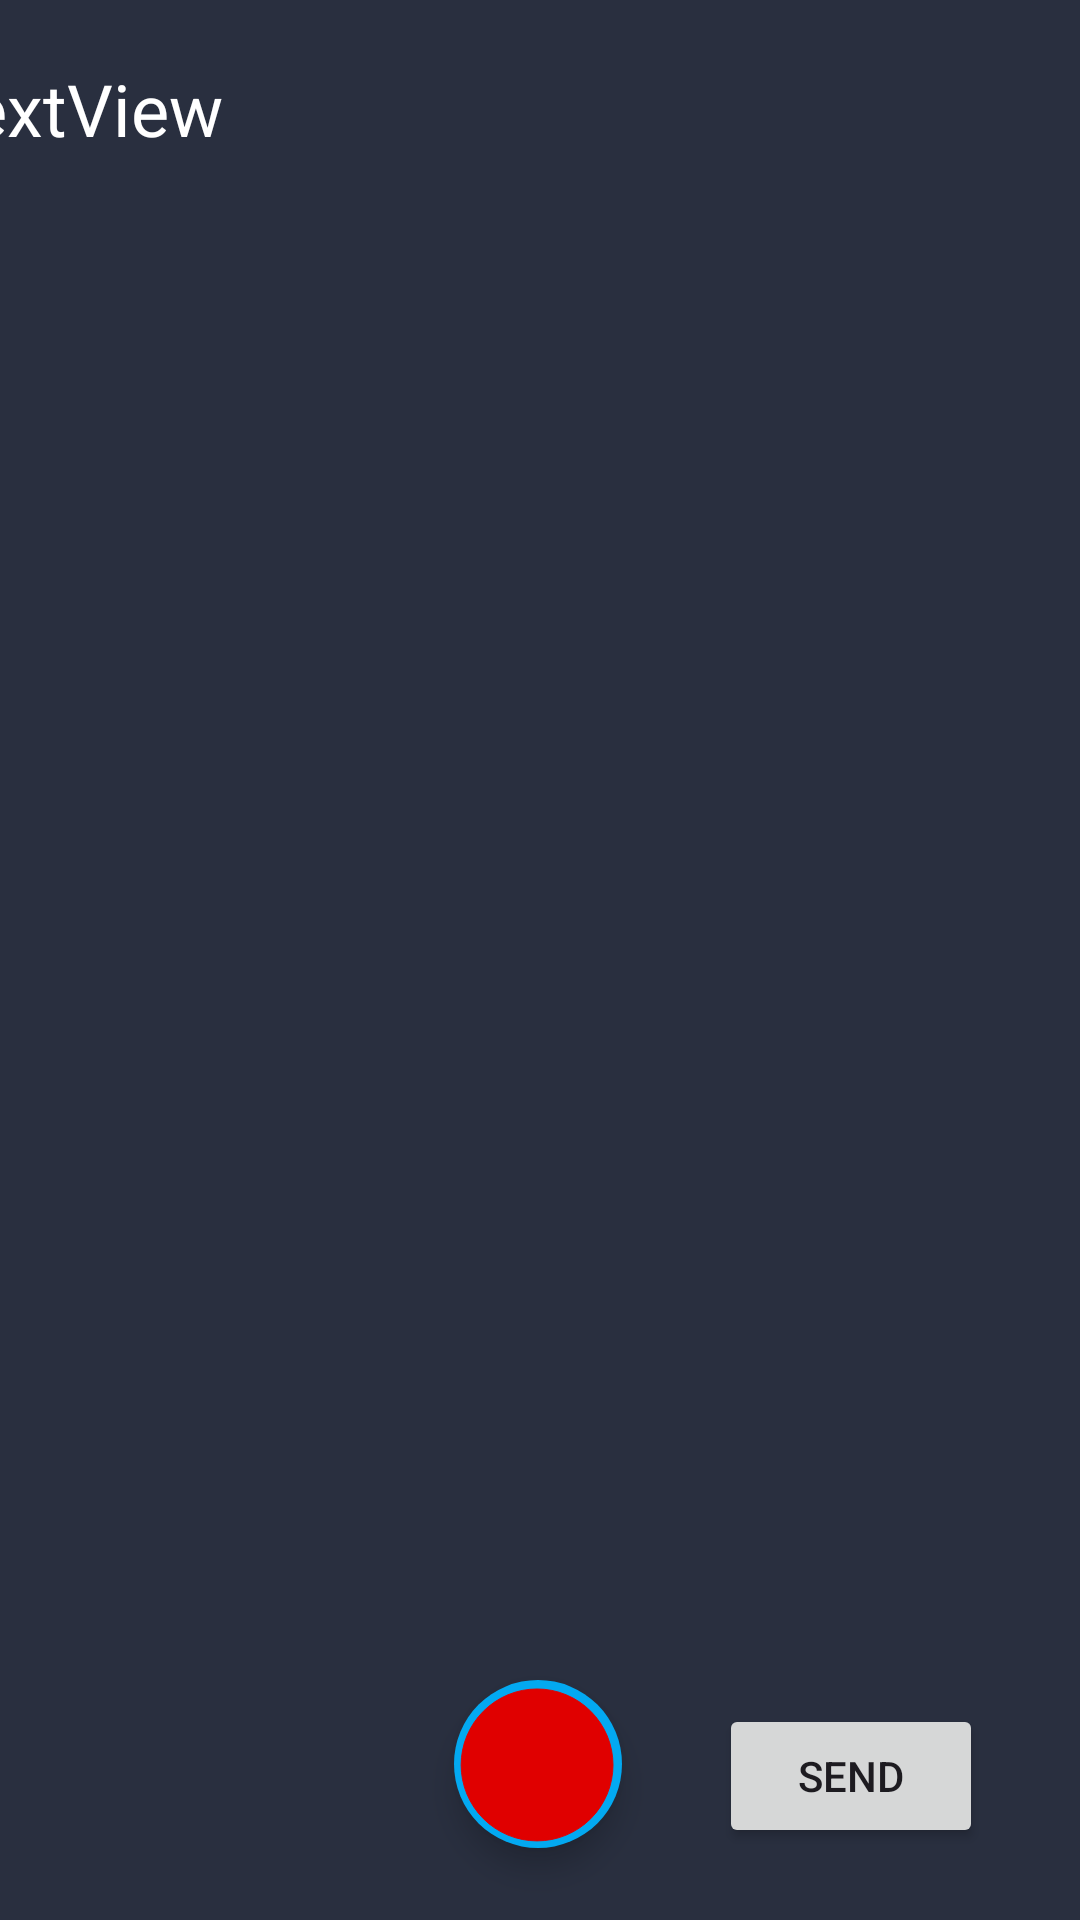

Named icons in this screenshot (1080px x 1920px) and their centers, point (x, y):
recording circle: point (538, 1764)
